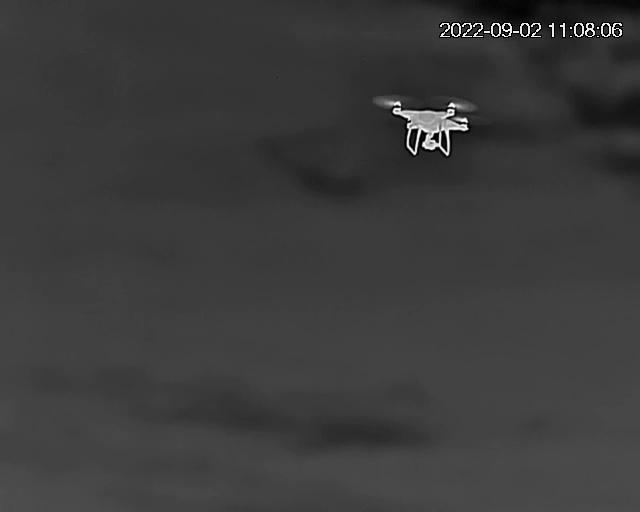DJI-Phantom: (376, 98, 481, 156)
